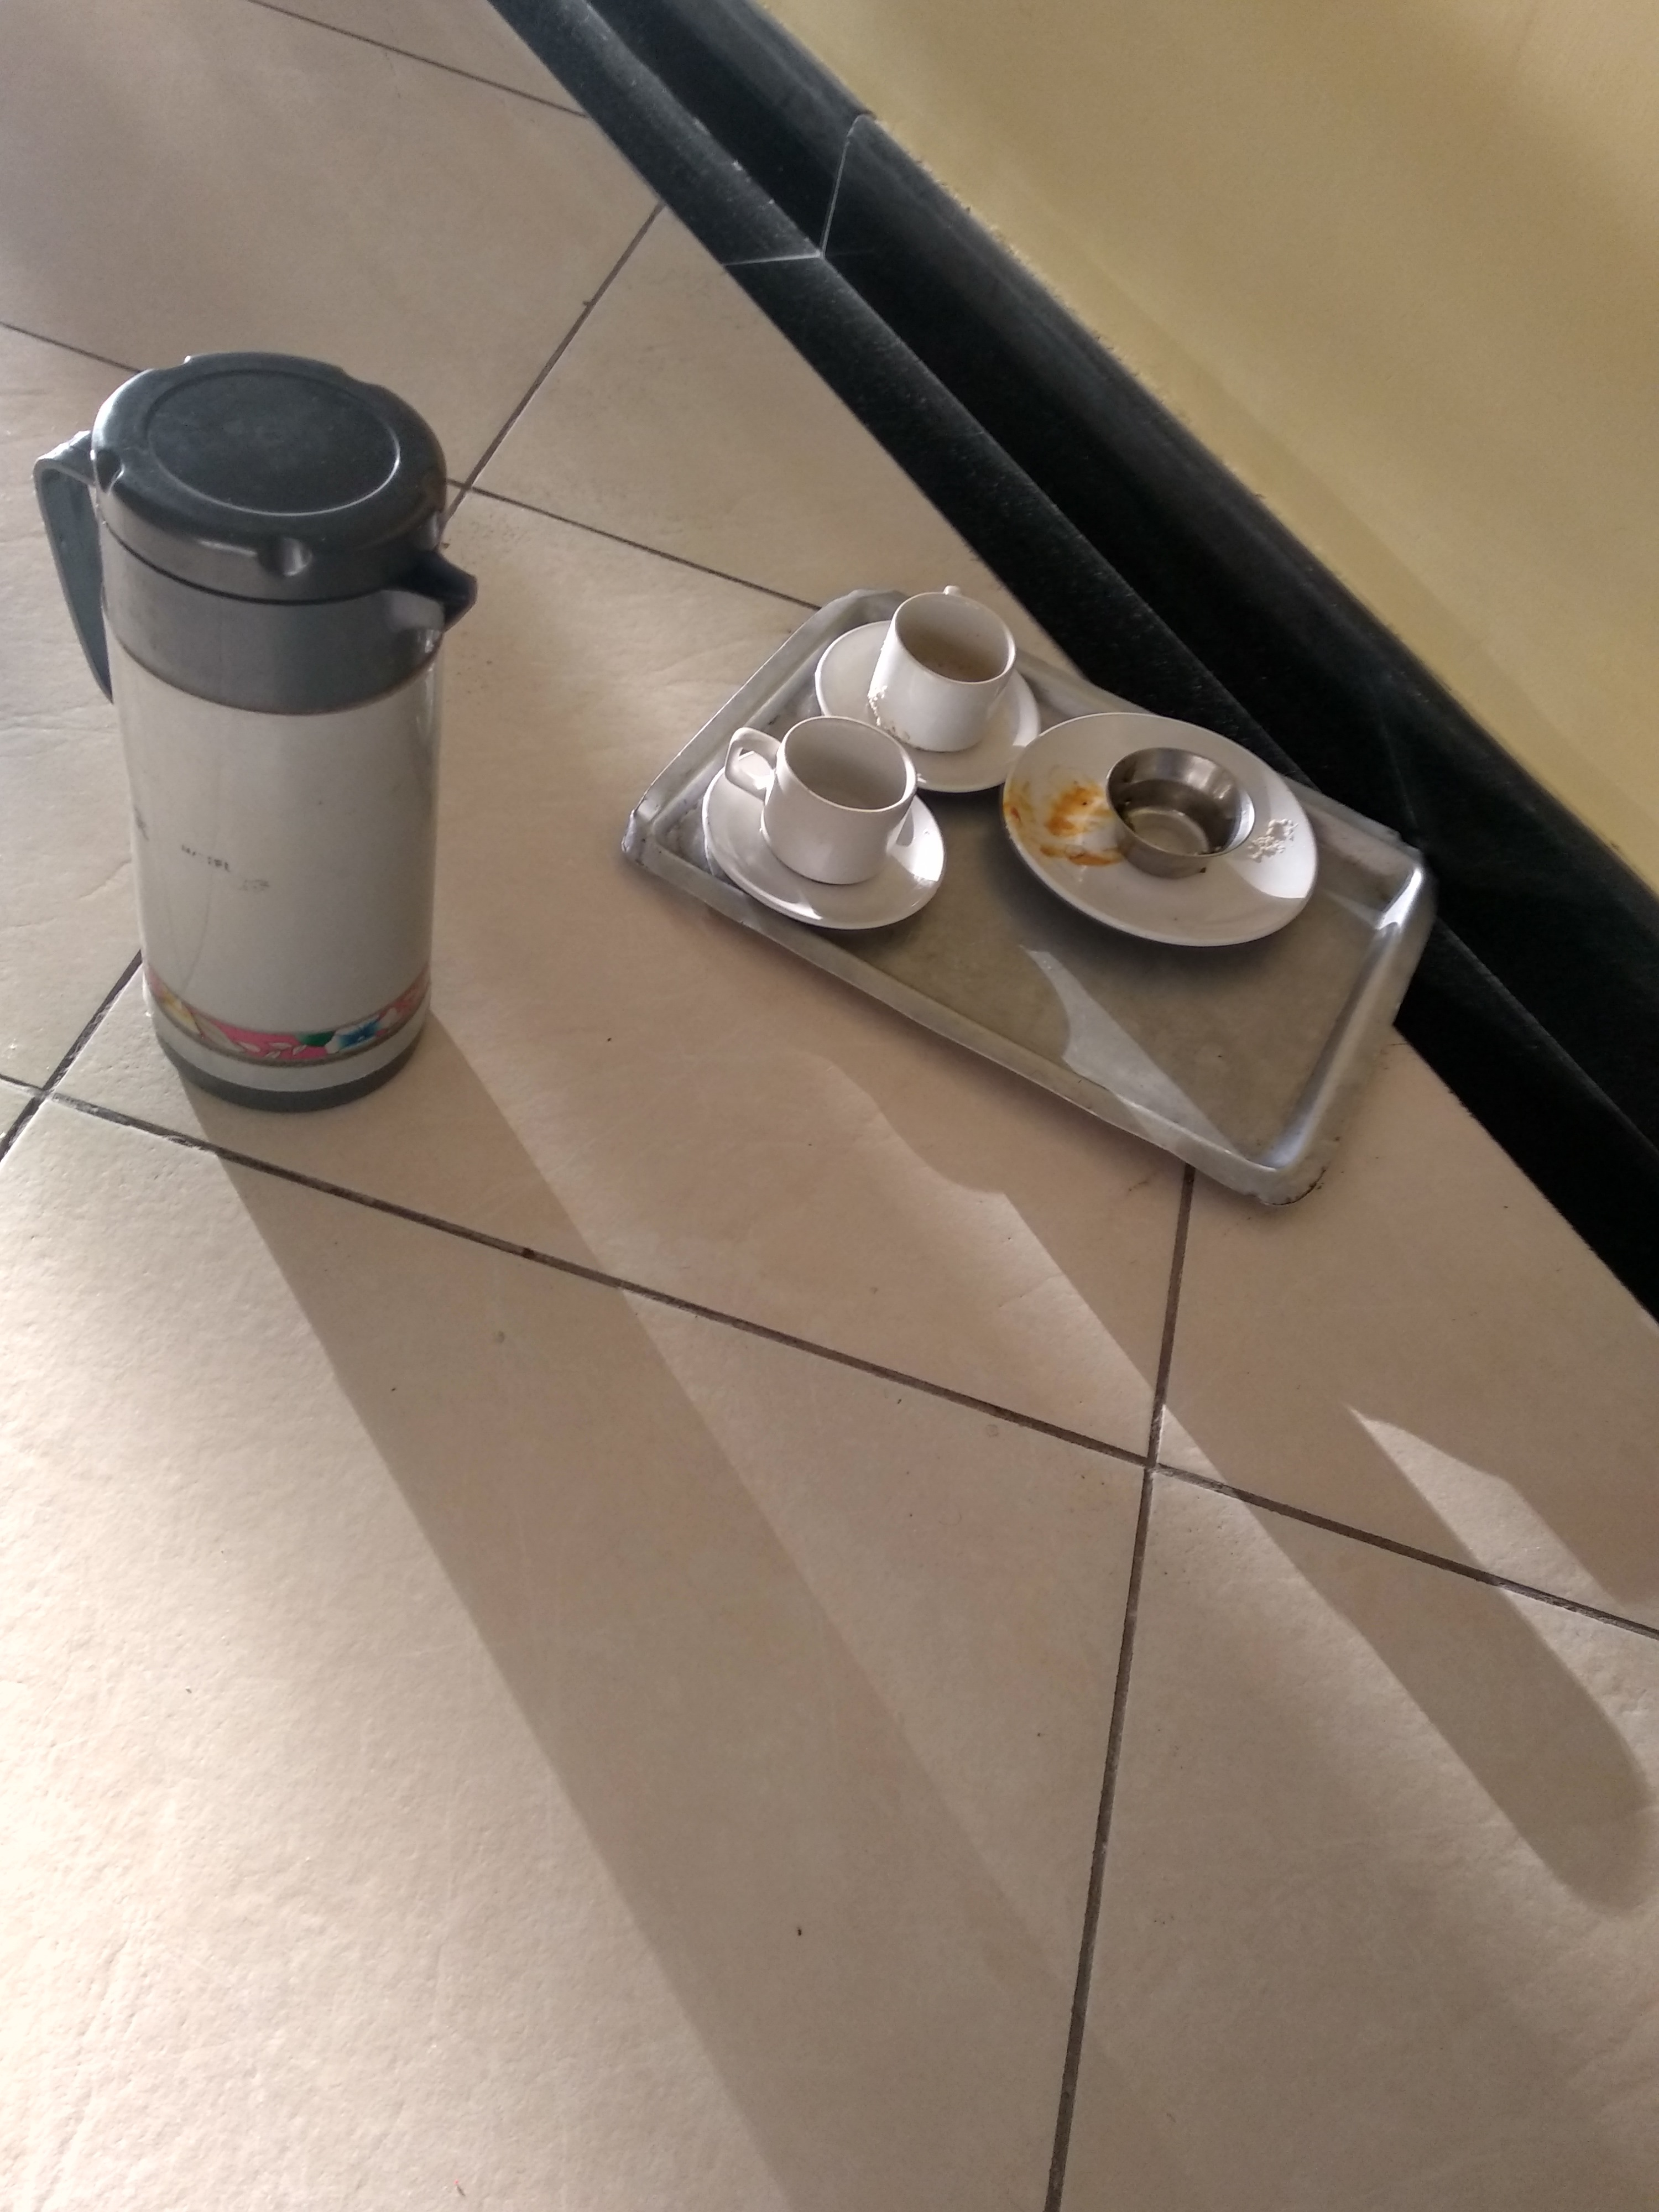CUP: (713, 716, 927, 911), (1112, 728, 1269, 904), (878, 573, 1023, 754)
JUG: (40, 343, 481, 1113)
